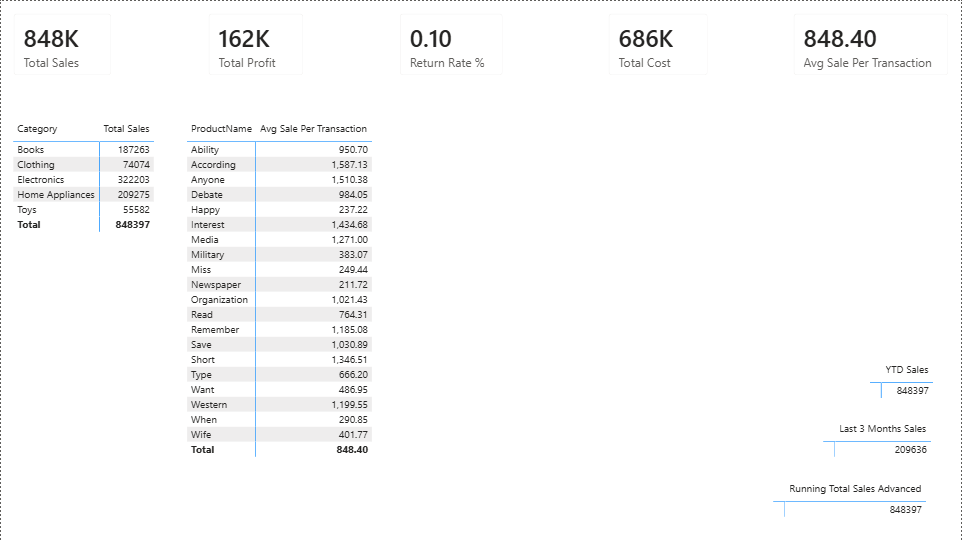

The dashboard page shown, as its layout file describes it:
{"tool":"powerbi","page":{"name":"Page 1","canvas":[1280,720],"ordinal":0},"visuals":[{"type":"cardVisual","fields":{"Data":["Customer_Dim.Total Sales"]},"box":[0,0,164.7,116.6],"z":0},{"type":"cardVisual","fields":{"Data":["Customer_Dim.Total Cost"]},"box":[793.1,0,166,116.6],"z":1000},{"type":"cardVisual","fields":{"Data":["Sales_Fact.Total Profit"]},"box":[259.3,0,160.5,116.6],"z":2000},{"type":"cardVisual","fields":{"Data":["Customer_Dim.Avg Sale Per Transaction"]},"box":[1040.1,0,240.1,116.6],"z":3000},{"type":"cardVisual","fields":{"Data":["Sales_Fact.Return Rate %"]},"box":[514.6,0,171.5,116.6],"z":4000},{"type":"pivotTable","fields":{"Rows":["Product_Dim.Category"],"Values":["Customer_Dim.Total Sales"]},"box":[11.7,153.3,231.7,566.7],"z":5000},{"type":"pivotTable","fields":{"Rows":["Product_Dim.ProductName"],"Values":["Customer_Dim.Avg Sale Per Transaction"]},"box":[243.3,153.3,326.7,488.3],"z":6000},{"type":"pivotTable","fields":{"Values":["Measures_Table.YTD Sales"]},"box":[1153.3,475,126.7,78.3],"z":6001},{"type":"pivotTable","fields":{"Values":["Measures_Table.Last 3 Months Sales"]},"box":[1091.7,553.3,188.3,80],"z":6002},{"type":"pivotTable","fields":{"Values":["Measures_Table.Running Total Sales Advanced"]},"box":[1025,633.3,255,86.7],"z":6003}]}

Visuals, with their boxes in screenshot pixels (x1, y1, x2, y2), scaled from the page's 1280x720 canvas onto the 962x540 screenshot:
cardVisual - Customer_Dim.Total Sales: bbox=(0, 0, 124, 87)
cardVisual - Customer_Dim.Total Cost: bbox=(596, 0, 721, 87)
cardVisual - Sales_Fact.Total Profit: bbox=(195, 0, 316, 87)
cardVisual - Customer_Dim.Avg Sale Per Transaction: bbox=(782, 0, 961, 87)
cardVisual - Sales_Fact.Return Rate %: bbox=(387, 0, 516, 87)
pivotTable - Product_Dim.Category x Customer_Dim.Total Sales: bbox=(9, 115, 183, 539)
pivotTable - Product_Dim.ProductName x Customer_Dim.Avg Sale Per Transaction: bbox=(183, 115, 428, 481)
pivotTable - Measures_Table.YTD Sales: bbox=(867, 356, 961, 415)
pivotTable - Measures_Table.Last 3 Months Sales: bbox=(820, 415, 961, 475)
pivotTable - Measures_Table.Running Total Sales Advanced: bbox=(770, 475, 961, 539)
